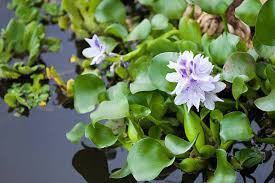water_hyacinth: (67, 27, 262, 183)
